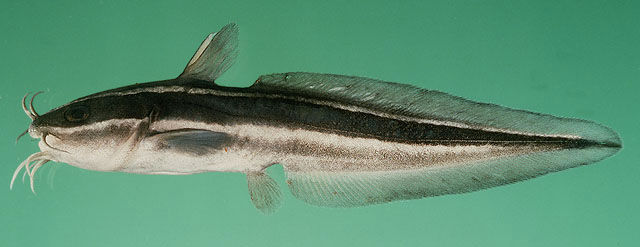fish: (30, 23, 623, 208)
